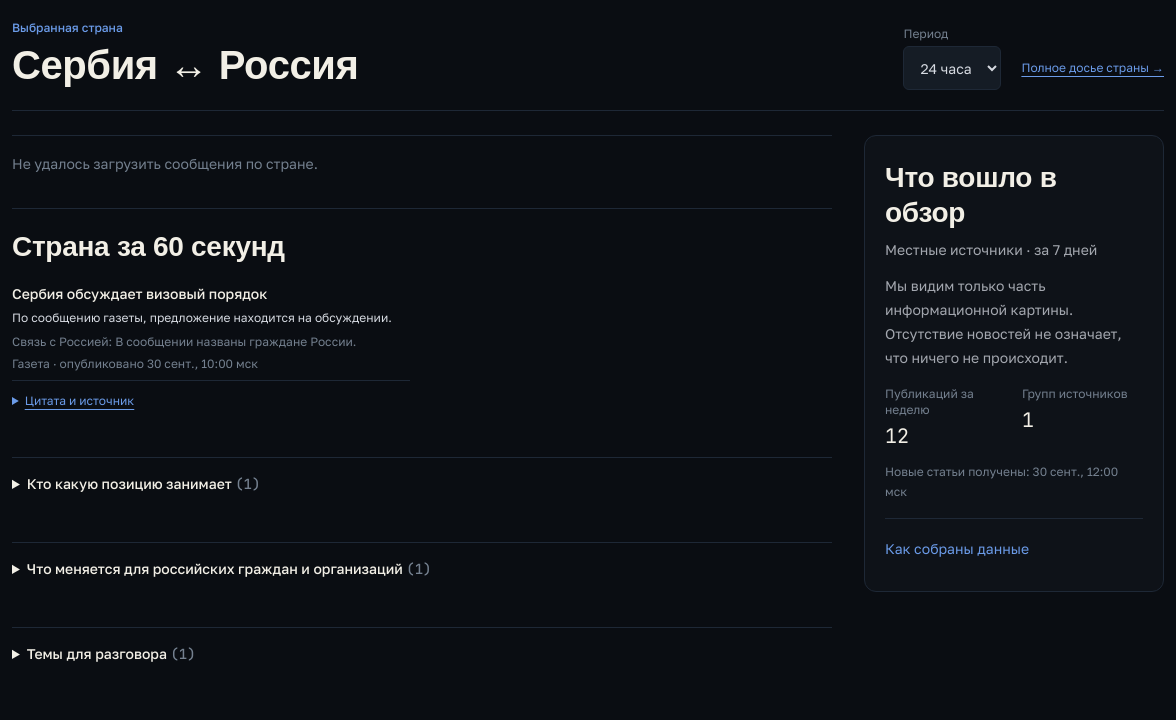
Test case: DecisionWorkspace › shows checked source excerpts with claim labels once and hides legacy quotes when the new array exists
(page scrolled)
Expected: the heading "Сербия ↔ Россия" is shown, [12,40,358,90]
Click the heading "Цитата и источник". click: click(73, 401)
box: [12,389,134,413]
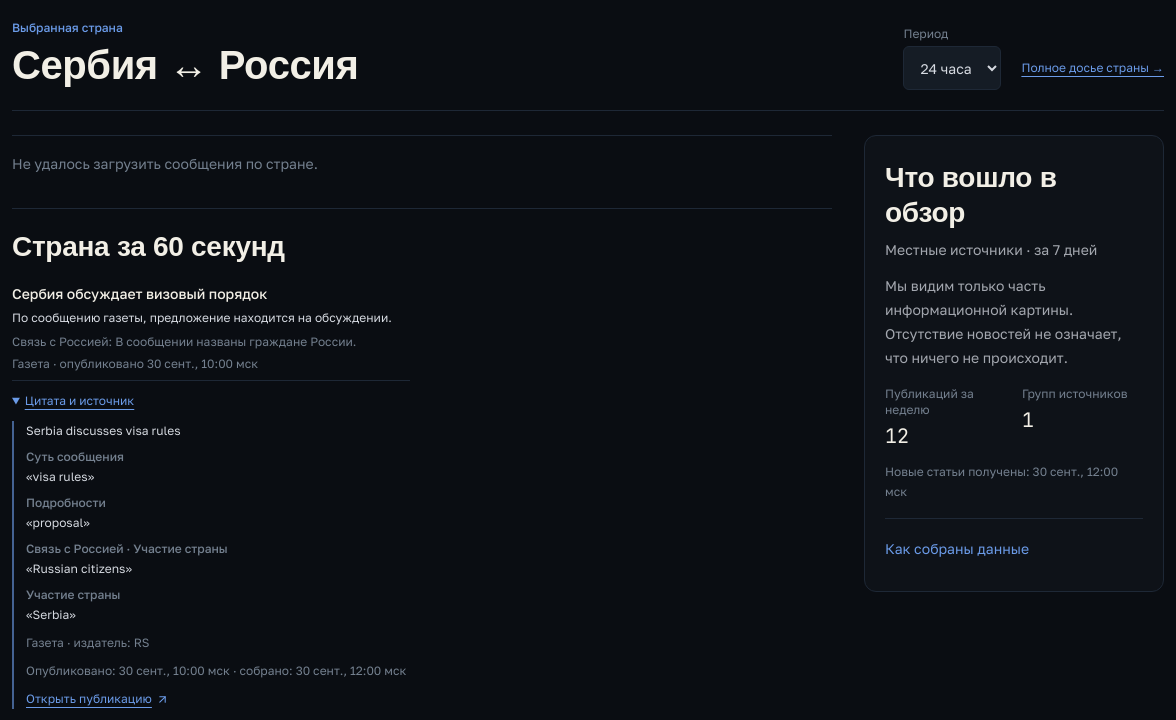
Now the text "Суть сообщения" is shown, box [26,449,124,464]
Now the text "Подробности" is shown, box [26,495,106,510]
Now the text "Связь с Россией" is shown, box [26,541,124,556]
